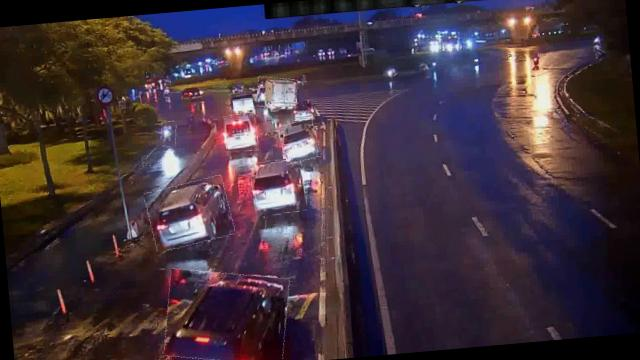Bike: (160, 121, 177, 148)
Bus: (222, 112, 258, 153)
Car: (160, 262, 293, 360), (145, 177, 234, 250), (250, 158, 307, 216), (279, 120, 320, 164)
Truck: (254, 75, 298, 110)
